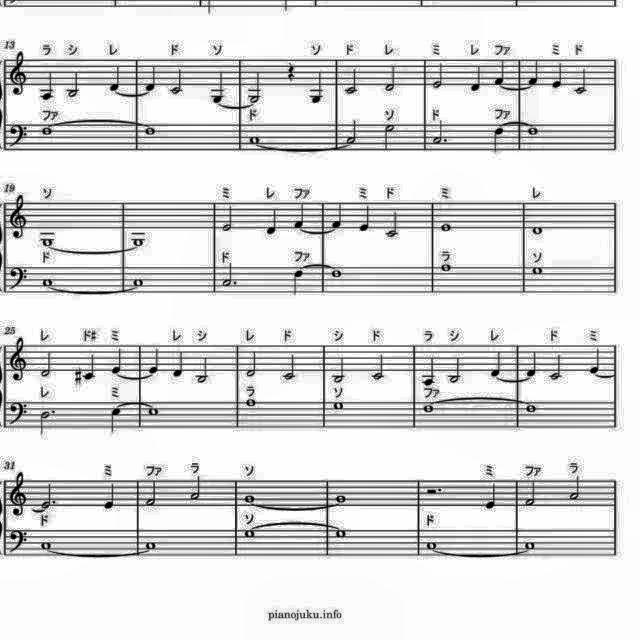Bass-clef: (7, 526, 30, 556), (6, 122, 30, 150), (6, 264, 30, 292), (7, 399, 29, 428)
Diez: (72, 364, 84, 386)
Full-note: (36, 234, 60, 248), (128, 233, 148, 249), (38, 274, 58, 290), (35, 537, 57, 551), (140, 125, 158, 139), (328, 399, 346, 413), (34, 126, 54, 138), (529, 223, 545, 237), (524, 125, 540, 139), (530, 265, 546, 279), (522, 537, 538, 551), (334, 527, 350, 541), (142, 537, 158, 551), (242, 527, 258, 541), (438, 220, 456, 232), (130, 276, 148, 288), (334, 492, 351, 504), (524, 402, 538, 416), (242, 492, 258, 504), (145, 406, 161, 418), (439, 262, 455, 274), (330, 268, 346, 280), (246, 134, 262, 146), (420, 404, 436, 416), (424, 538, 440, 550), (244, 396, 258, 408)
Half-dot: (35, 480, 57, 510), (430, 116, 450, 148), (38, 407, 58, 438), (219, 262, 239, 292)
Half-note: (246, 70, 264, 106), (280, 352, 298, 383), (189, 474, 207, 504), (343, 68, 361, 98), (370, 352, 388, 382), (168, 66, 186, 96), (547, 351, 565, 381), (331, 356, 349, 386), (380, 62, 396, 94), (572, 64, 588, 96), (37, 348, 54, 378), (220, 203, 236, 233), (66, 69, 82, 99), (382, 123, 398, 153), (144, 478, 160, 508), (382, 209, 398, 239), (242, 348, 258, 378), (196, 355, 212, 385), (448, 356, 464, 386), (526, 479, 542, 508), (566, 474, 582, 502), (344, 118, 360, 146), (430, 60, 444, 90)
Half-rest: (424, 484, 444, 498)
Quarter-note: (306, 72, 326, 108), (208, 71, 228, 105), (36, 72, 56, 105), (419, 354, 437, 386), (484, 481, 501, 512), (356, 203, 372, 234), (170, 348, 186, 379), (588, 345, 604, 375), (84, 351, 100, 381), (470, 64, 486, 94), (108, 345, 124, 375), (488, 349, 504, 379), (146, 345, 162, 375), (526, 57, 542, 87), (102, 482, 118, 512), (524, 349, 540, 379), (290, 201, 306, 231), (266, 207, 282, 237), (331, 200, 347, 230), (490, 125, 506, 155), (290, 267, 306, 297), (142, 64, 158, 92), (492, 58, 508, 86), (108, 406, 124, 434), (551, 61, 565, 91), (107, 64, 123, 90)
Quarter-rest: (283, 60, 297, 84)
Treble-clef: (6, 193, 30, 243), (6, 50, 30, 99), (7, 470, 30, 520), (7, 335, 30, 383)
